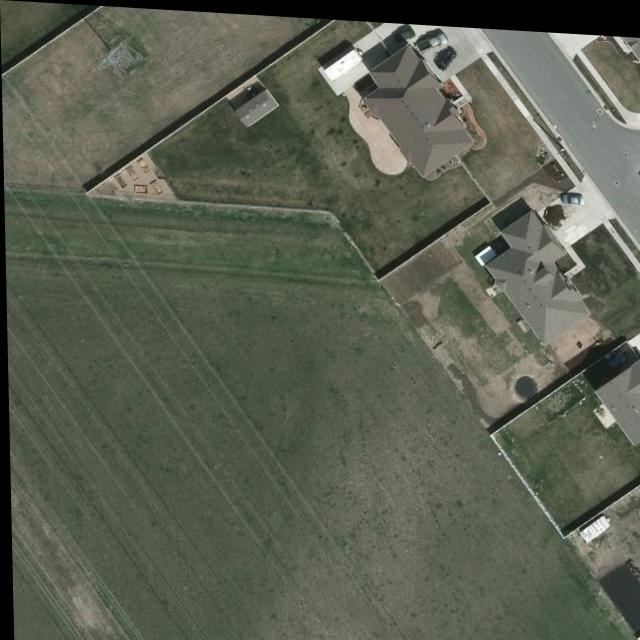vehicle: (416, 23, 449, 53), (433, 42, 461, 67), (393, 23, 417, 41), (561, 187, 583, 198)
